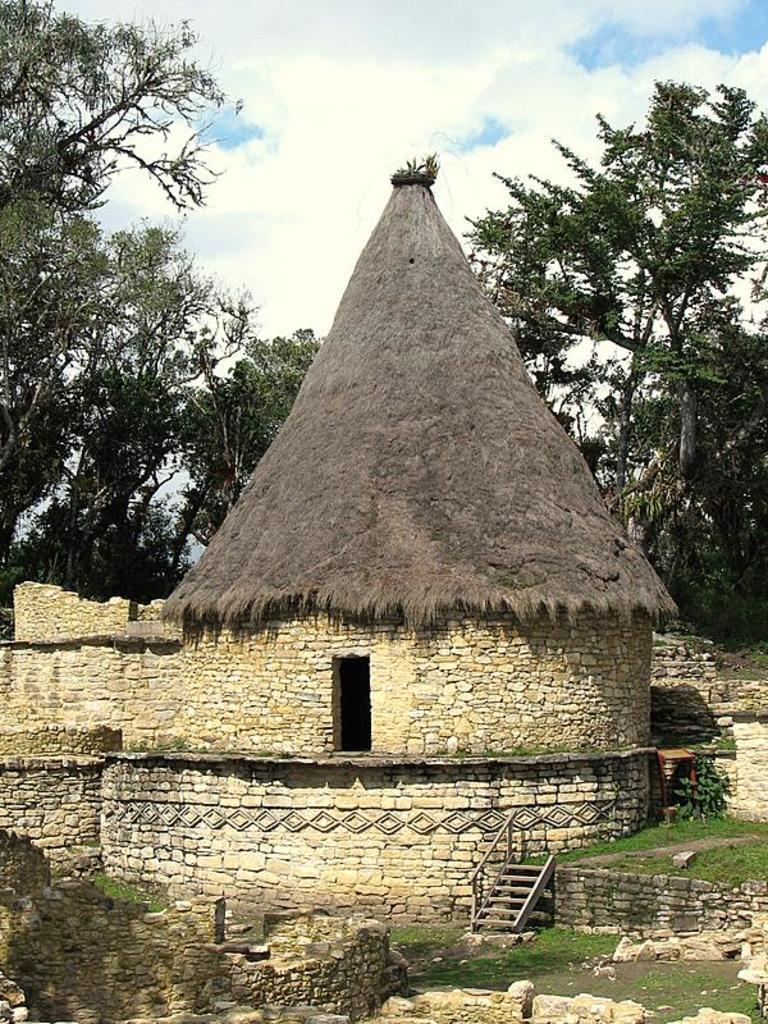Tree: (0, 0, 767, 649)
